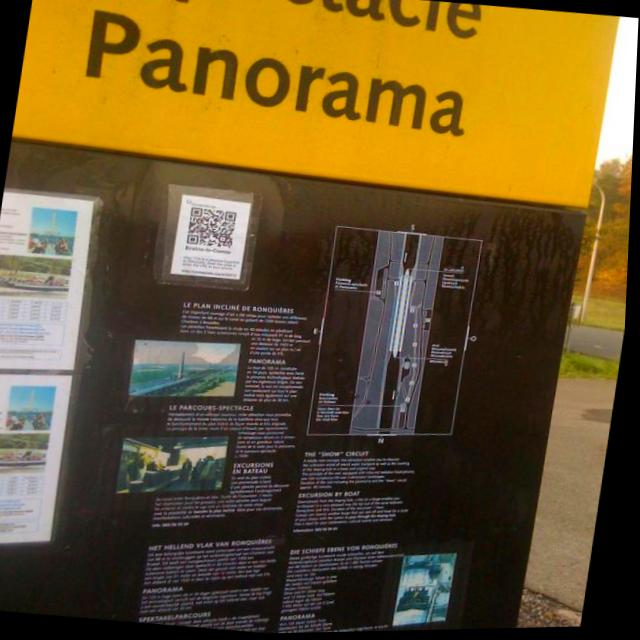qrcode: (189, 208, 239, 250)
